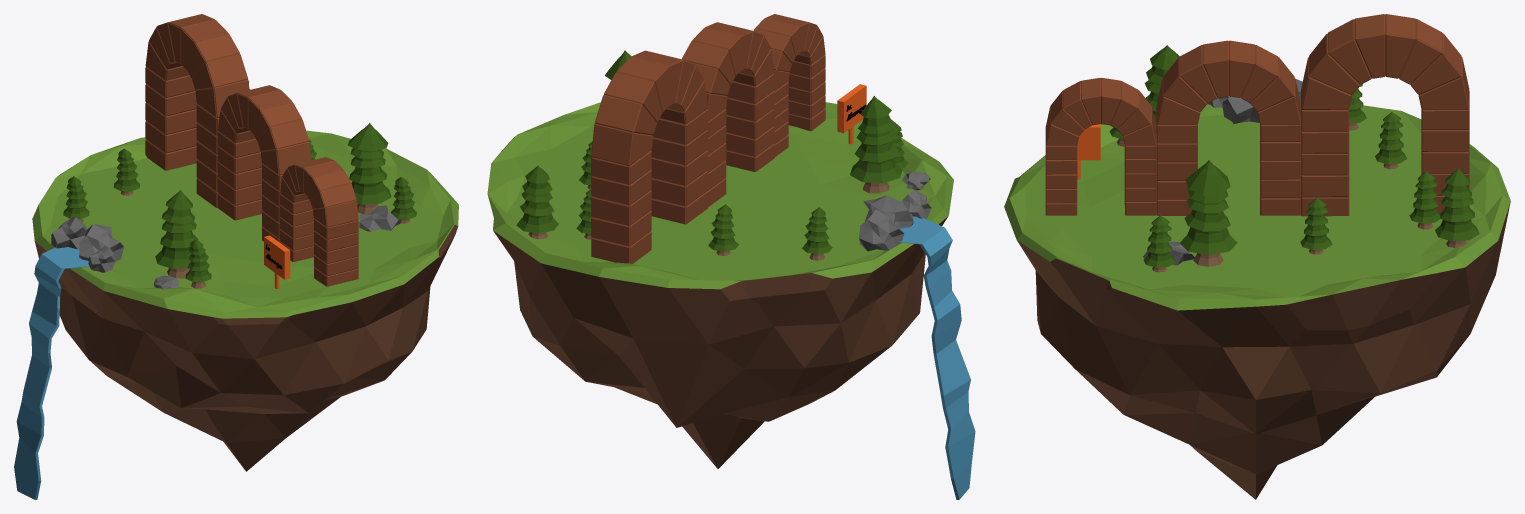
Rendered from Isla.glb.
3 views of the same model, side by side, from view 1: azimuth 30°, elevation 25°; view 2: azimuth 150°, elevation 25°; view 3: azimuth 270°, elevation 25° (orthographic). The views are drawn at different scales.
Visible parts, largest first — view 1: Isla, Acue, Agua, Arbol.002, Arbol, Roca 3, Cartel, Arbol.003, Roca 2, Arbol.008, Arbol.006, Arbol.004 (+2 smaller); view 2: Isla, Acue, Agua, Arbol, Arbol.001, Roca 2, Cartel, Arbol.004, Arbol.008, Roca 3, Roca 1; view 3: Isla, Acue, Arbol.002, Arbol.001, Arbol.005, Arbol.006, Arbol.008, Arbol.007, Arbol, Cartel, Roca 3.
Boxes of the visible parts, x1,y1,x2,y2 form: Isla: (32,130,458,471); Acue: (145,14,358,286); Agua: (14,247,89,499); Arbol.002: (347,123,391,213); Arbol: (155,190,198,278); Roca 3: (79,224,123,263); Cartel: (264,235,290,288); Arbol.003: (185,239,211,288); Roca 2: (51,217,86,249); Arbol.008: (113,148,139,195); Arbol.006: (391,177,416,223); Arbol.004: (63,176,89,222); Isla: (487,102,953,468); Acue: (591,14,825,263); Agua: (899,216,975,499); Arbol: (850,96,902,193); Arbol.001: (516,165,558,239); Roca 2: (859,209,904,251); Cartel: (837,84,866,144); Arbol.004: (802,207,832,260); Arbol.008: (708,204,738,255); Roca 3: (863,195,913,228); Roca 1: (902,190,931,218); Isla: (1004,104,1510,499); Acue: (1045,14,1469,216); Arbol.002: (1180,160,1237,266); Arbol.001: (1435,167,1479,247); Arbol.005: (1409,171,1440,229); Arbol.006: (1143,215,1175,272); Arbol.008: (1375,112,1406,169); Arbol.007: (1300,197,1332,254); Arbol: (1144,45,1179,125); Cartel: (1077,124,1100,179); Roca 3: (1222,96,1259,123).
Size of the model in its own units: 23.1 by 21.99 by 21.03.
5 materials, 2 textured.
